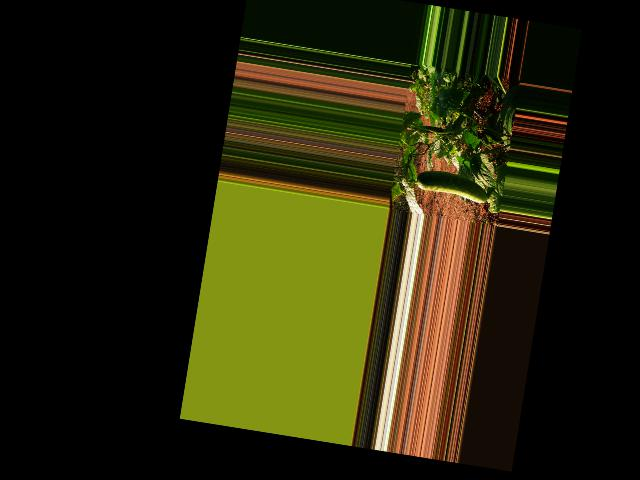cucumber: (415, 168, 490, 204)
